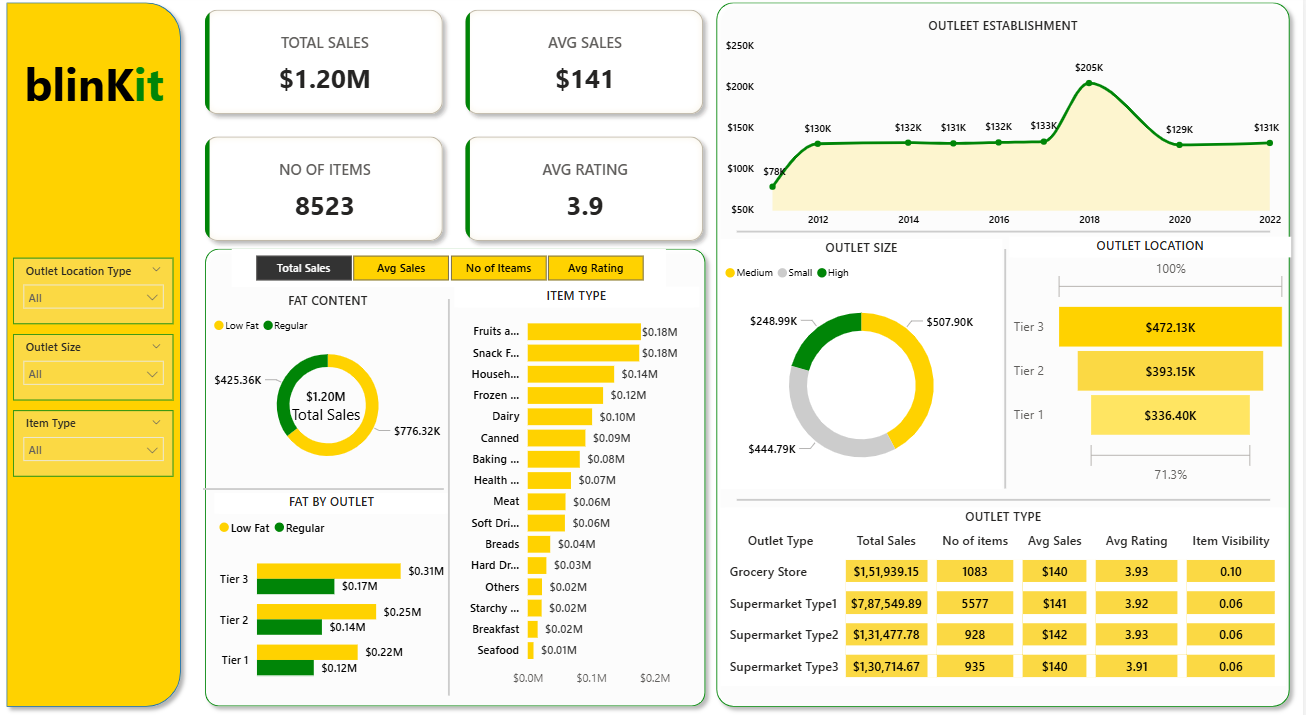

This screenshot's page, from the dashboard's own definition file:
{"tool":"powerbi","page":{"name":"Page 1","canvas":[1400,800],"ordinal":0},"visuals":[{"type":"shape","box":[0,0,205.1,773.4],"z":0},{"type":"textbox","box":[252,560.3,120.6,213.1],"z":1000},{"type":"textbox","box":[17.4,57.6,171.6,87.1],"z":2000},{"type":"cardVisual","fields":{"Data":["BlinkIT Grocery Data.Total Sales","BlinkIT Grocery Data.Average Sales","BlinkIT Grocery Data.Number of Iteams","BlinkIT Grocery Data.Average Rating"]},"box":[205.1,0,569.6,282.3],"z":3000},{"type":"shape","box":[212.7,264.6,554.4,508.9],"z":4000},{"type":"donutChart","title":"FAT CONTENT","fields":{"Y":["BlinkIT Grocery Data.Total Sales"],"Category":["BlinkIT Grocery Data.Item Fat Content"]},"box":[226.6,319,254.4,198.7],"z":5000},{"type":"slicer","fields":{"Values":["Metrics.Metrics"]},"box":[250.6,273.4,465.8,40.5],"z":6000},{"type":"cardVisual","fields":{"Data":["BlinkIT Grocery Data.Total Sales"]},"box":[296.2,402.5,111.4,79.7],"z":7000},{"type":"clusteredBarChart","title":"FAT BY OUTLET","fields":{"Y":["BlinkIT Grocery Data.Total Sales"],"Category":["BlinkIT Grocery Data.Outlet Location Type"],"Series":["BlinkIT Grocery Data.Item Fat Content"]},"box":[231.6,535.4,251.9,220.3],"z":8000},{"type":"shape","box":[220.3,520.3,258.2,21.5],"z":9000},{"type":"shape","box":[477.2,326.6,12.7,425.3],"z":10000},{"type":"barChart","title":"ITEM TYPE","fields":{"Y":["BlinkIT Grocery Data.Total Sales"],"Category":["BlinkIT Grocery Data.Item Type"]},"box":[489.9,313.9,262,438],"z":11000},{"type":"shape","box":[762,0,632.9,773.4],"z":12000},{"type":"lineChart","title":"OUTLEET ESTABLISHMENT","fields":{"Y":["BlinkIT Grocery Data.Total Sales"],"Category":["BlinkIT Grocery Data.Outlet Establishment Year"]},"box":[774.7,24.1,606.3,235.4],"z":13000},{"type":"shape","box":[792.4,245.6,572.2,19],"z":14000},{"type":"donutChart","title":"OUTLET SIZE","fields":{"Y":["BlinkIT Grocery Data.Total Sales"],"Category":["BlinkIT Grocery Data.Outlet Size"]},"box":[774.7,263.3,302.5,268.4],"z":15000},{"type":"shape","box":[1074.7,273.4,10.1,257],"z":16000},{"type":"funnel","title":"OUTLET LOCATION","fields":{"Y":["BlinkIT Grocery Data.Total Sales"],"Category":["BlinkIT Grocery Data.Outlet Location Type"]},"box":[1084.8,259.5,302.5,270.9],"z":17000},{"type":"shape","box":[792.4,535.4,572.2,15.2],"z":18000},{"type":"pivotTable","title":"OUTLET TYPE","fields":{"Rows":["BlinkIT Grocery Data.Outlet Type"],"Values":["BlinkIT Grocery Data.Total Sales","BlinkIT Grocery Data.Number of Iteams","BlinkIT Grocery Data.Average Sales","BlinkIT Grocery Data.Average Rating","Avg(BlinkIT Grocery Data.Item Visibility)"]},"box":[774.7,550.6,606.3,191.1],"z":19000},{"type":"slicer","fields":{"Values":["BlinkIT Grocery Data.Outlet Location Type"]},"box":[16.5,282.3,172.2,70.9],"z":20000},{"type":"slicer","fields":{"Values":["BlinkIT Grocery Data.Outlet Size"]},"box":[16.5,364.6,172.2,70.9],"z":21000},{"type":"slicer","fields":{"Values":["BlinkIT Grocery Data.Item Type"]},"box":[16.5,446.8,172.2,70.9],"z":22000}]}

Visuals, with their boxes in screenshot pixels (x1, y1, x2, y2):
shape: rect(17, 0, 204, 703)
textbox: rect(247, 508, 357, 703)
textbox: rect(33, 49, 190, 129)
cardVisual - BlinkIT Grocery Data.Total Sales x BlinkIT Grocery Data.Average Sales: rect(204, 0, 724, 254)
shape: rect(211, 238, 717, 703)
"FAT CONTENT" donutChart: rect(224, 288, 456, 469)
slicer - Metrics.Metrics: rect(246, 246, 671, 283)
cardVisual - BlinkIT Grocery Data.Total Sales: rect(287, 364, 389, 437)
"FAT BY OUTLET" clusteredBarChart: rect(228, 485, 458, 686)
shape: rect(218, 472, 454, 491)
shape: rect(453, 295, 464, 683)
"ITEM TYPE" barChart: rect(464, 283, 703, 683)
shape: rect(713, 0, 1290, 703)
"OUTLEET ESTABLISHMENT" lineChart: rect(724, 19, 1278, 233)
shape: rect(740, 221, 1263, 238)
"OUTLET SIZE" donutChart: rect(724, 237, 1000, 482)
shape: rect(998, 246, 1007, 481)
"OUTLET LOCATION" funnel: rect(1007, 233, 1283, 481)
shape: rect(740, 485, 1263, 499)
"OUTLET TYPE" pivotTable: rect(724, 499, 1278, 674)
slicer - BlinkIT Grocery Data.Outlet Location Type: rect(32, 254, 189, 319)
slicer - BlinkIT Grocery Data.Outlet Size: rect(32, 329, 189, 394)
slicer - BlinkIT Grocery Data.Item Type: rect(32, 404, 189, 469)
